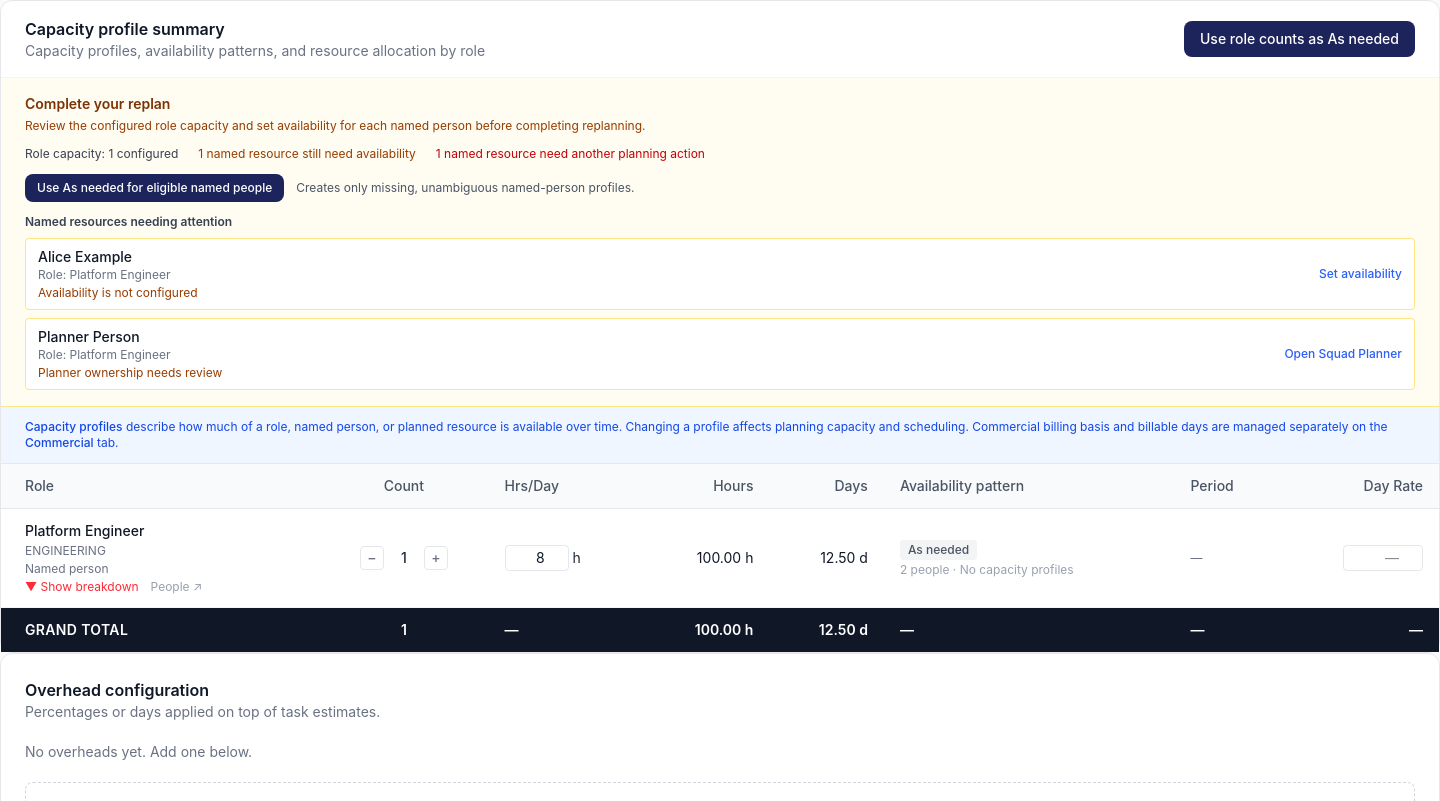
ResourceProfileTab — named-person recovery (issue #474) › offers the safe named-person bulk action and separates its success from remaining blockers
This screenshot has width=1440, height=801.
Click the button "Use As needed for eligible named people" at (155, 188), box [25,174,284,202]
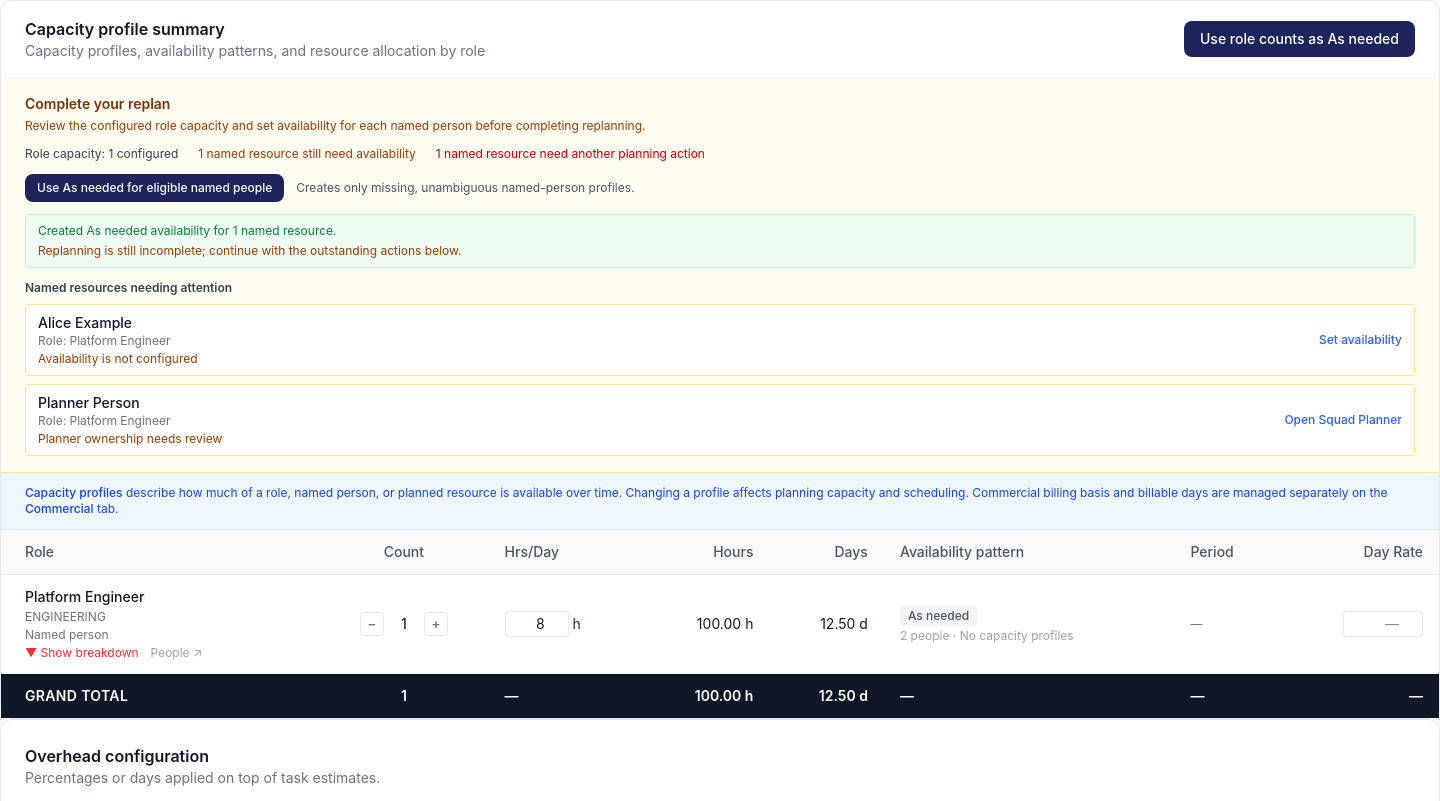
Result: the message with test id "bulk-named-as-needed-feedback" shows "Created As needed availability for 1 named resource." at [38,223,336,238]
Result: the message with test id "bulk-named-as-needed-feedback" shows "Replanning is still incomplete" at [38,243,461,258]
